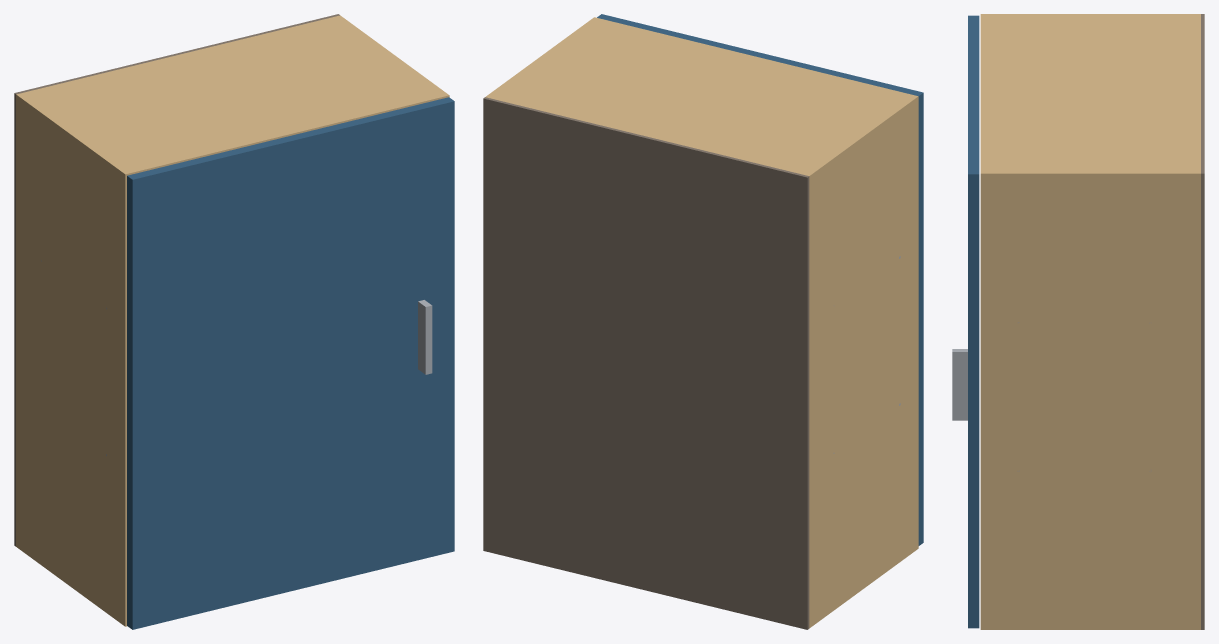
Rendered from cabinet.glb.
3 views of the same model, side by side, from view 1: azimuth 30°, elevation 25°; view 2: azimuth 150°, elevation 25°; view 3: azimuth 270°, elevation 25° (orthographic).
Visible parts, largest first — view 1: door panel, left side, top, back panel, right side, handle; view 2: back panel, left side, top, door panel, right side; view 3: right side, top, door panel, back panel, handle, left side.
Part boxes in pixels (x1=…): door panel: x1=127, y1=97, x2=454, y2=629; left side: x1=16, y1=92, x2=134, y2=626; top: x1=26, y1=18, x2=439, y2=173; back panel: x1=14, y1=14, x2=339, y2=546; right side: x1=331, y1=15, x2=449, y2=99; handle: x1=418, y1=300, x2=432, y2=374; back panel: x1=483, y1=97, x2=809, y2=629; left side: x1=800, y1=94, x2=918, y2=628; top: x1=495, y1=19, x2=908, y2=173; door panel: x1=597, y1=14, x2=923, y2=545; right side: x1=485, y1=17, x2=603, y2=99; right side: x1=980, y1=168, x2=1200, y2=629; top: x1=980, y1=18, x2=1200, y2=168; door panel: x1=968, y1=15, x2=979, y2=628; back panel: x1=1201, y1=14, x2=1204, y2=629; handle: x1=952, y1=349, x2=967, y2=420; left side: x1=980, y1=14, x2=1200, y2=18.
Size of the model in its own units: 600 by 800 by 401.
